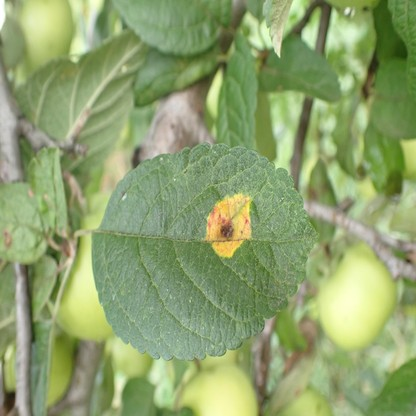rust: (205, 193, 252, 256)
